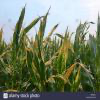Corn leaf blight: (16, 32, 42, 92), (10, 3, 28, 68), (54, 25, 71, 89), (73, 20, 96, 53), (37, 11, 45, 63), (0, 56, 11, 90), (89, 32, 97, 76), (71, 65, 82, 91)
